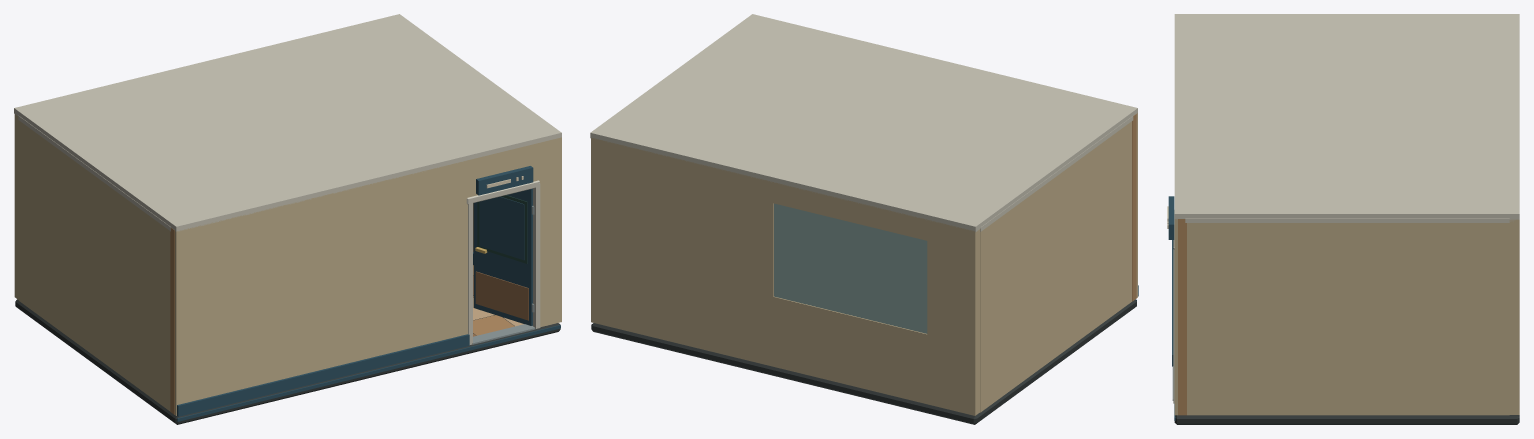
Rendered from office.glb.
3 renders of one model, left to right at view 1: azimuth 30°, elevation 25°; view 2: azimuth 150°, elevation 25°; view 3: azimuth 270°, elevation 25°, orthographic. The views are drawn at different scales.
Parts seen in each view (by area): view 1: cutaway_ceiling_room, cutaway_front_room, cutaway_side_left, room_architecture, intact_door; view 2: room_architecture, cutaway_ceiling_room, cutaway_side_left; view 3: cutaway_ceiling_room, cutaway_side_right, room_architecture, cutaway_front_room.
Part boxes in pixels (box(x1,y1,x2,y2)): cutaway_ceiling_room: box(14, 14, 561, 231); cutaway_front_room: box(175, 137, 561, 416); cutaway_side_left: box(18, 115, 174, 414); room_architecture: box(14, 114, 560, 424); intact_door: box(473, 188, 534, 325); room_architecture: box(591, 138, 1136, 424); cutaway_ceiling_room: box(590, 14, 1137, 232); cutaway_side_left: box(980, 114, 1136, 412); cutaway_ceiling_room: box(1174, 14, 1519, 219); cutaway_side_right: box(1178, 218, 1509, 415); room_architecture: box(1167, 196, 1519, 424); cutaway_front_room: box(1172, 219, 1177, 415).
Size of what is drawn, in the model's own units: 6.65 by 3.28 by 4.94.
